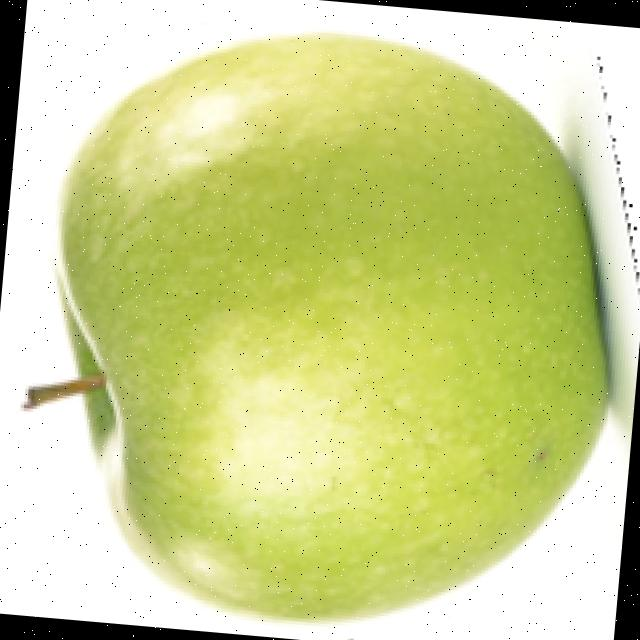apple: (17, 27, 640, 629)
